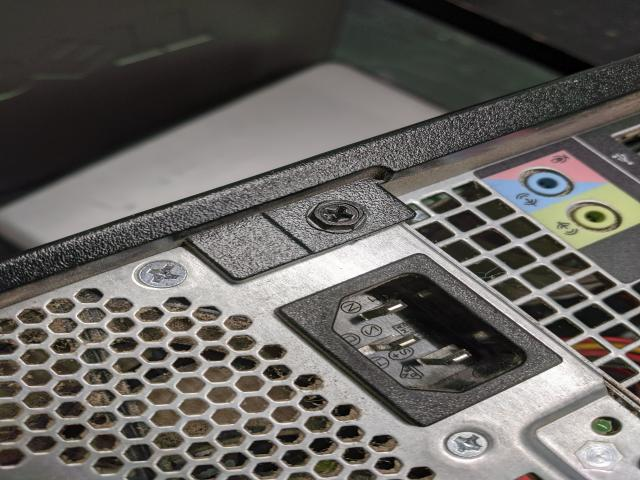CRS: (308, 200, 368, 230), (134, 260, 188, 286), (445, 431, 491, 458)
